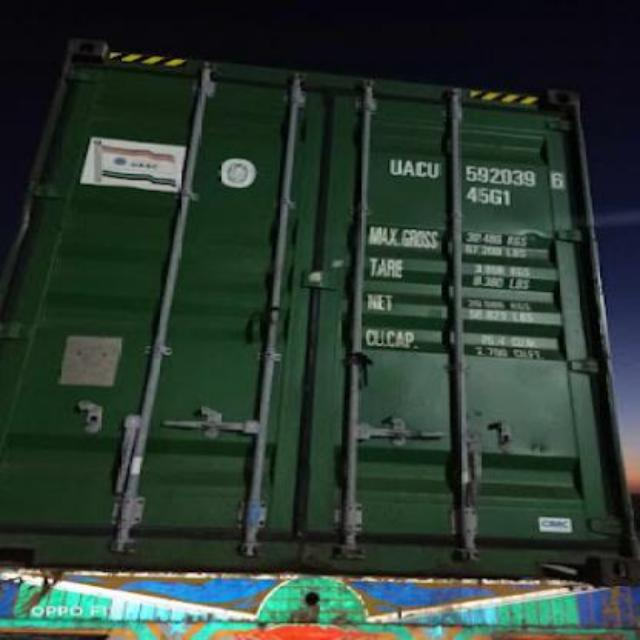0: (500, 159, 512, 185)
2: (486, 160, 502, 186)
3: (511, 158, 524, 188)
5: (462, 154, 476, 182)
6: (548, 168, 568, 194)
9: (524, 160, 538, 190), (476, 157, 488, 181)
A: (401, 149, 414, 179)
C: (412, 152, 426, 182)
U: (384, 148, 400, 176), (426, 153, 439, 180)
